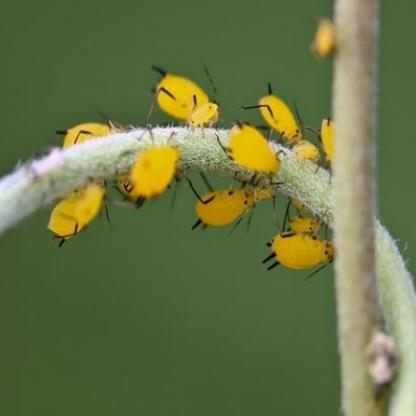aphid: (144, 59, 220, 131), (227, 113, 298, 187), (116, 137, 185, 210), (42, 173, 110, 240), (195, 173, 265, 231), (254, 83, 312, 145), (268, 228, 340, 274), (55, 112, 124, 152), (313, 115, 342, 182), (181, 93, 220, 141), (312, 11, 340, 60)
